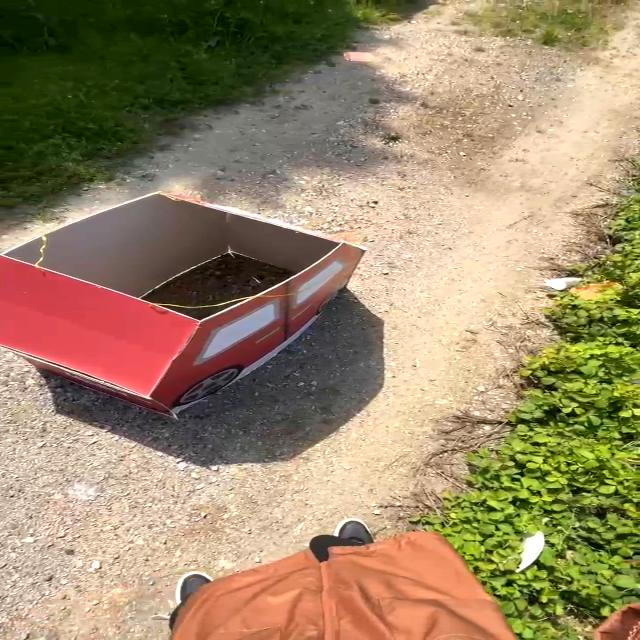red_car: (0, 177, 377, 433)
